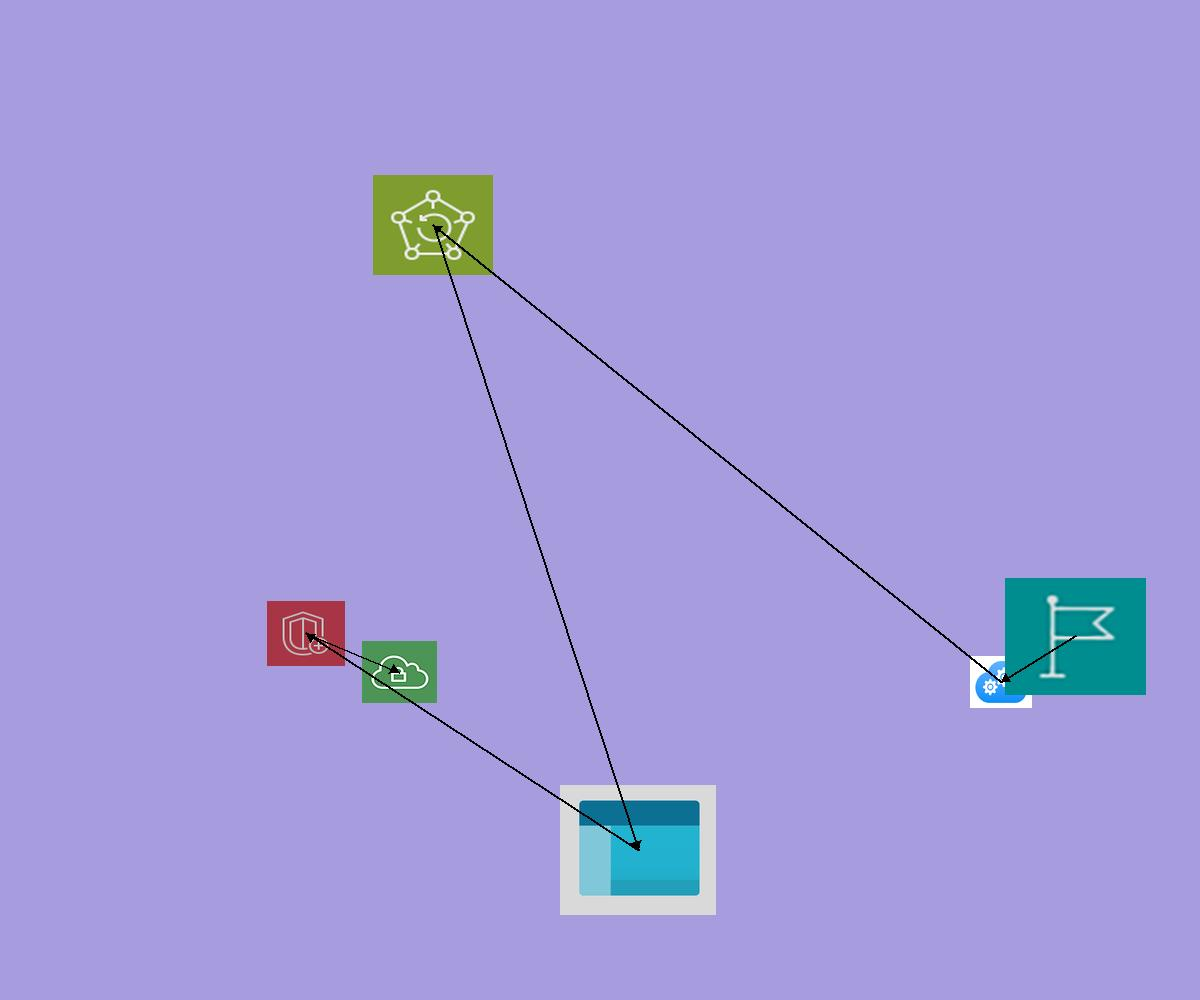AWS-Backup: (373, 175, 493, 275)
AWS-Private_vpc: (362, 641, 437, 703)
AWS-Region: (1005, 578, 1146, 695)
AWS-Shield: (267, 601, 345, 666)
Azure_cloud_services: (970, 656, 1032, 708)
Azure_management-portal: (560, 785, 716, 915)
